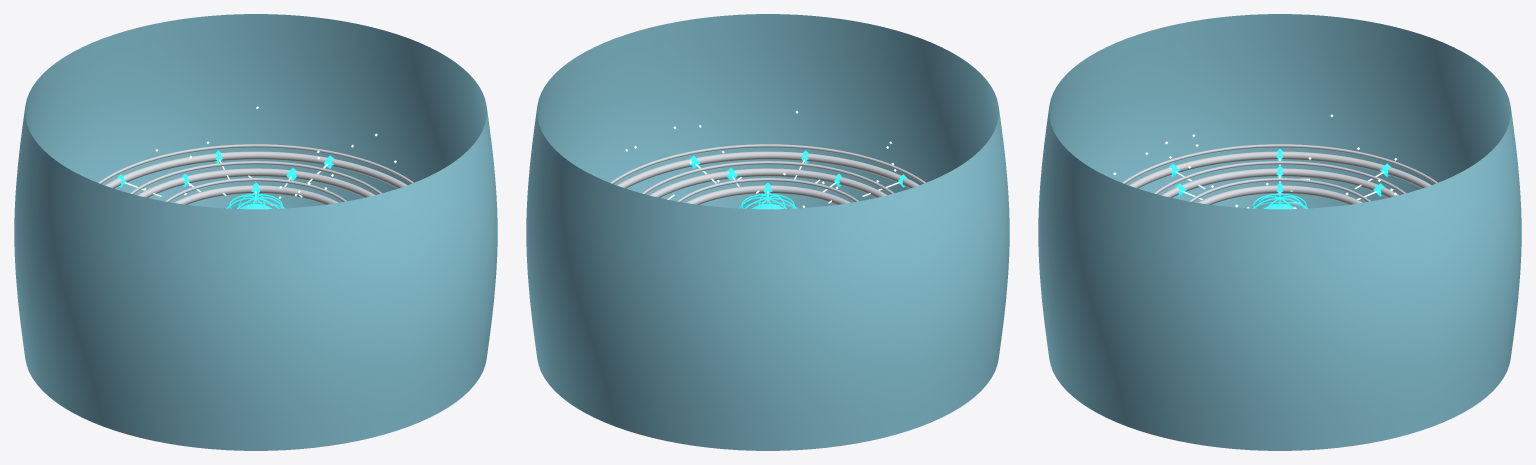
File: fortress.glb
3 views of the same model, side by side, from view 1: azimuth 30°, elevation 25°; view 2: azimuth 150°, elevation 25°; view 3: azimuth 270°, elevation 25° (orthographic).
Parts seen in each view (by area): view 1: OuterBarrier, AccessControlRingBand, AuthenticationRingBand, IdentityRingBand; view 2: OuterBarrier, AccessControlRingBand, AuthenticationRingBand, IdentityRingBand; view 3: OuterBarrier, AccessControlRingBand, AuthenticationRingBand, IdentityRingBand.
Boxes of the visible parts, x1,y1,x2,y2 form: OuterBarrier: (14,14,497,450); AccessControlRingBand: (98,144,413,188); AuthenticationRingBand: (130,161,381,197); IdentityRingBand: (165,178,346,204); OuterBarrier: (526,14,1009,450); AccessControlRingBand: (610,144,925,188); AuthenticationRingBand: (642,161,893,197); IdentityRingBand: (677,178,858,204); OuterBarrier: (1038,14,1521,450); AccessControlRingBand: (1122,144,1437,188); AuthenticationRingBand: (1154,161,1405,197); IdentityRingBand: (1189,178,1370,204).
Size of the model in its own units: 5.44 by 3 by 5.44.
